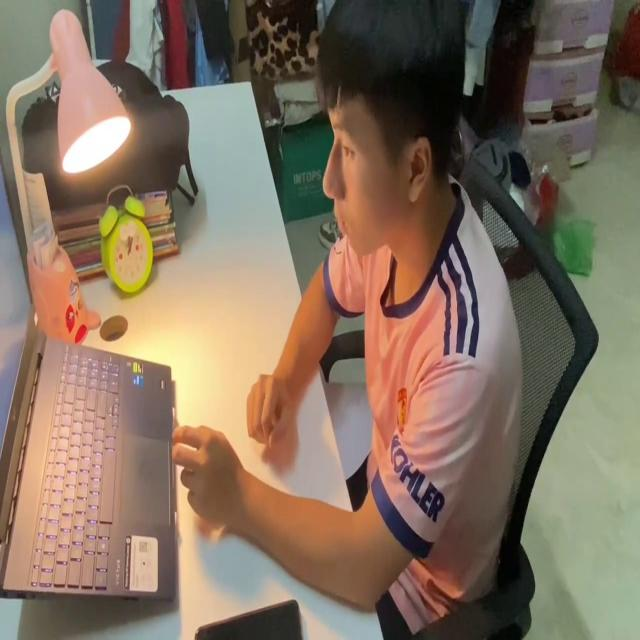book: (319, 363, 375, 482)
laptop: (1, 154, 179, 610)
phone: (196, 597, 304, 640)
student: (173, 0, 526, 640)
